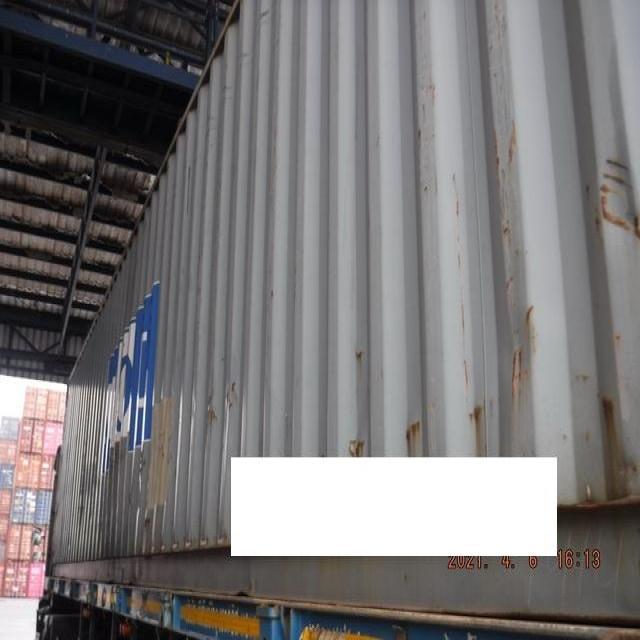Minor-Dent: (478, 309, 547, 391)
